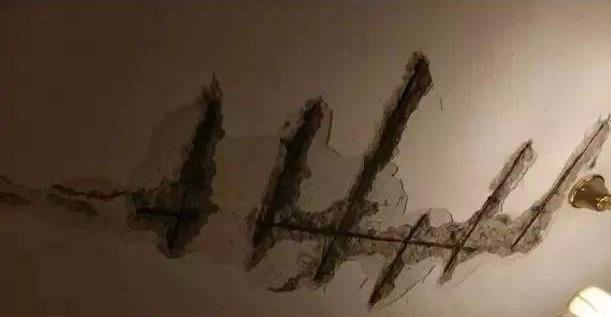Exposed reinforcement: (312, 57, 429, 283), (509, 122, 604, 250), (442, 143, 529, 275), (252, 103, 322, 245), (165, 103, 218, 251), (254, 219, 478, 252), (367, 213, 428, 304), (43, 192, 100, 218), (51, 183, 122, 203), (135, 206, 198, 222)
Spalling: (123, 49, 611, 313), (1, 173, 123, 231)
